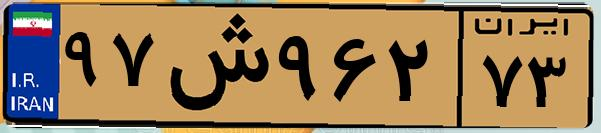2: (385, 28, 445, 110)
3: (525, 38, 570, 115)
6: (330, 28, 385, 110)
7: (475, 38, 525, 113), (110, 28, 158, 98)
9: (270, 28, 330, 110), (57, 26, 110, 100)
ش: (158, 12, 270, 120)
